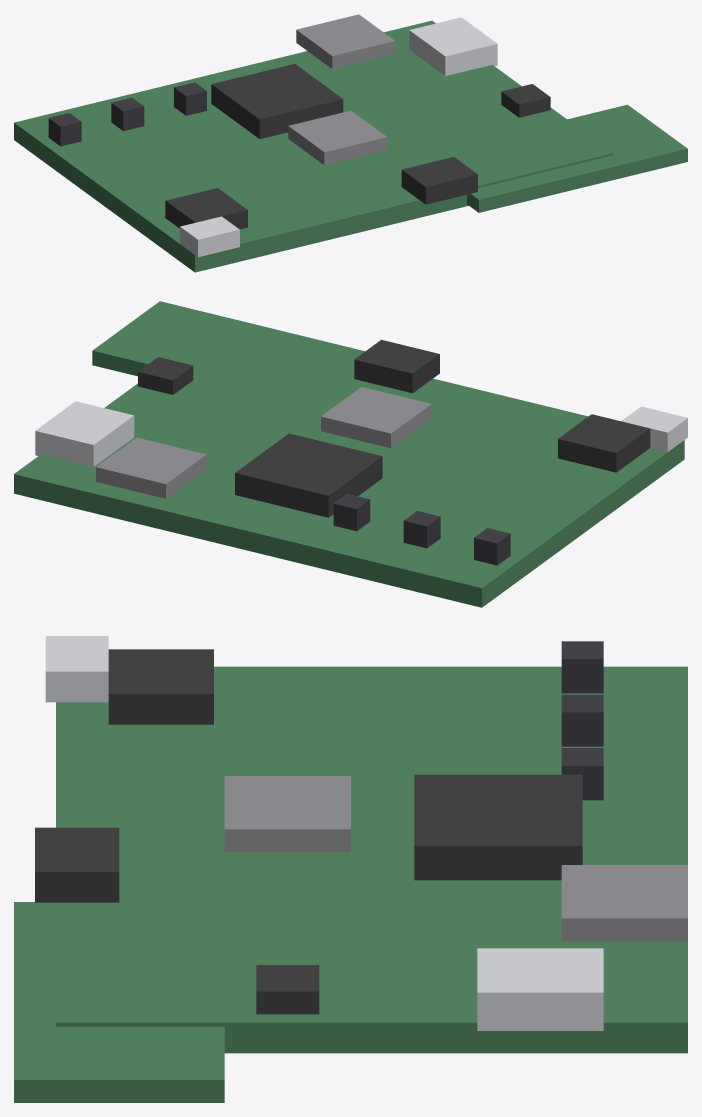
The model's file is mainboard.gltf.
The picture shows the model from 3 angles, top to bottom: view 1: azimuth 30°, elevation 25°; view 2: azimuth 150°, elevation 25°; view 3: azimuth 270°, elevation 25°; orthographic projection. The views are drawn at different scales.
Parts seen in each view (by area): view 1: mainboard; view 2: mainboard; view 3: mainboard.
Part boxes in pixels (box(x1,y1,x2,y2)): mainboard: box(14, 14, 687, 272); mainboard: box(14, 301, 687, 607); mainboard: box(14, 636, 687, 1102).
Bounding box in the file's own units: 0.23 × 0.019 × 0.16.
